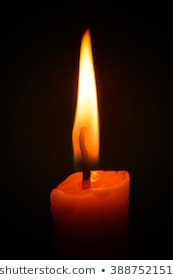Fire: (70, 27, 100, 166)
